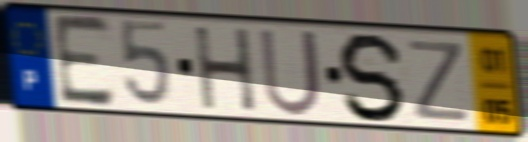5: (117, 16, 174, 112)
E: (50, 12, 118, 110)
H: (191, 25, 260, 114)
S: (335, 30, 409, 125)
U: (256, 26, 325, 120)
Z: (405, 37, 472, 125)
